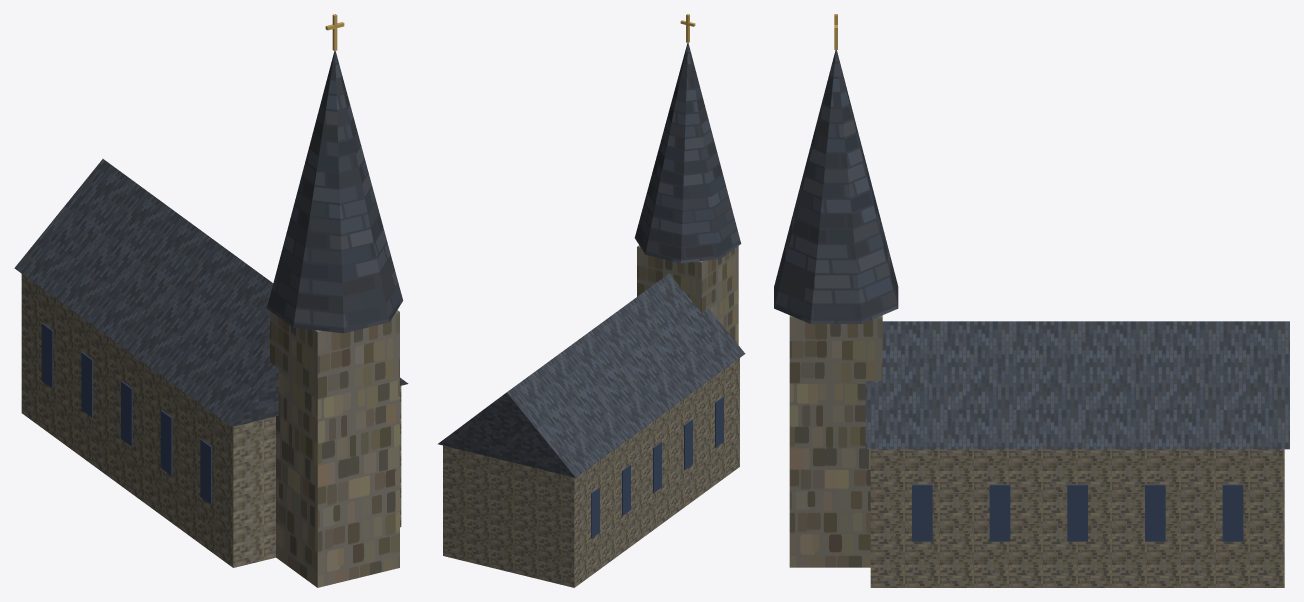
Rendered from village_church.glb.
3 renders of one model, left to right at view 1: azimuth 30°, elevation 25°; view 2: azimuth 150°, elevation 25°; view 3: azimuth 270°, elevation 25°, orthographic. The views are drawn at different scales.
Visible parts, largest first — view 1: church; view 2: church; view 3: church.
Part boxes in pixels (x1,y1,x2,y2): church: [14, 14, 408, 587]; church: [438, 14, 745, 587]; church: [774, 14, 1289, 587].
Size of the model in its own units: 11.6 by 34.1 by 29.9.
Materials: 4 (2 with a texture image).
